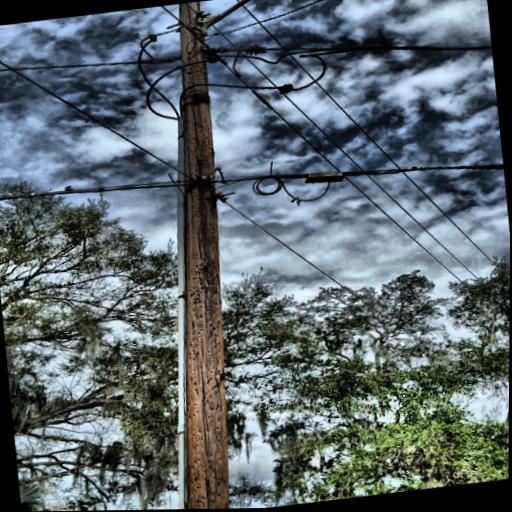pole: (94, 0, 264, 511)
street light: (191, 0, 431, 39)
